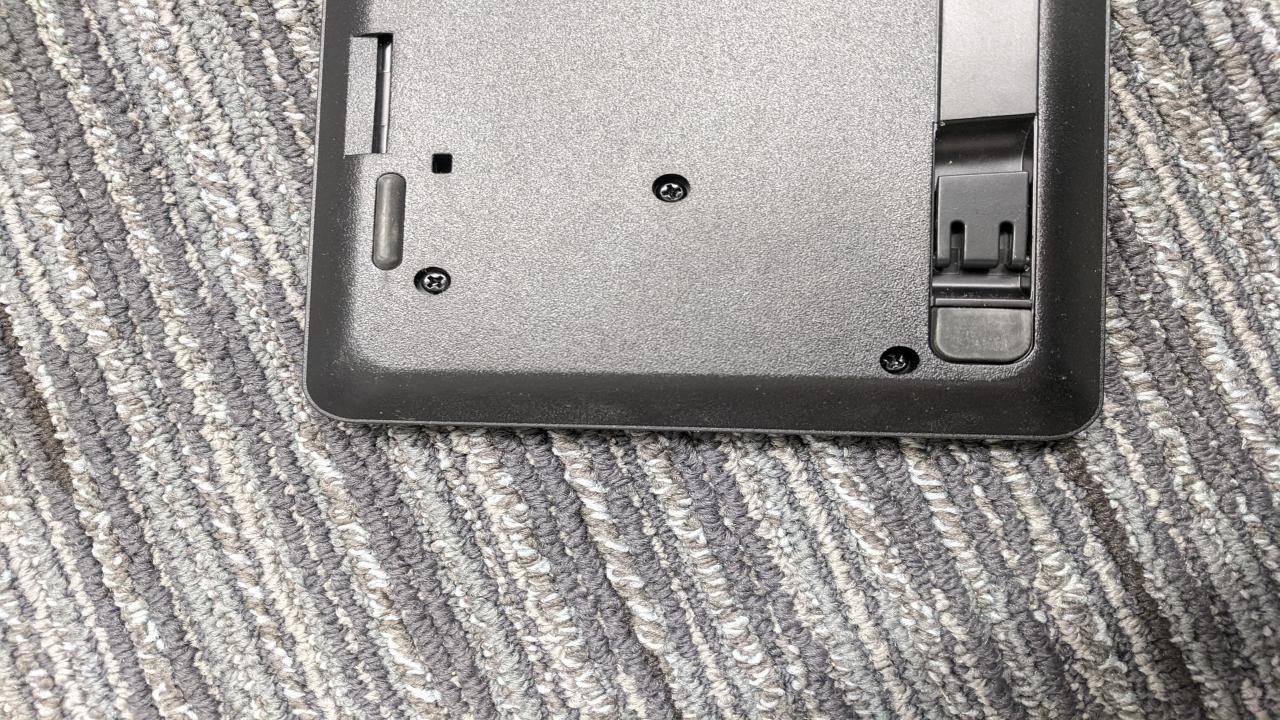CRS: (415, 267, 454, 296), (875, 348, 917, 373), (652, 178, 690, 204)
